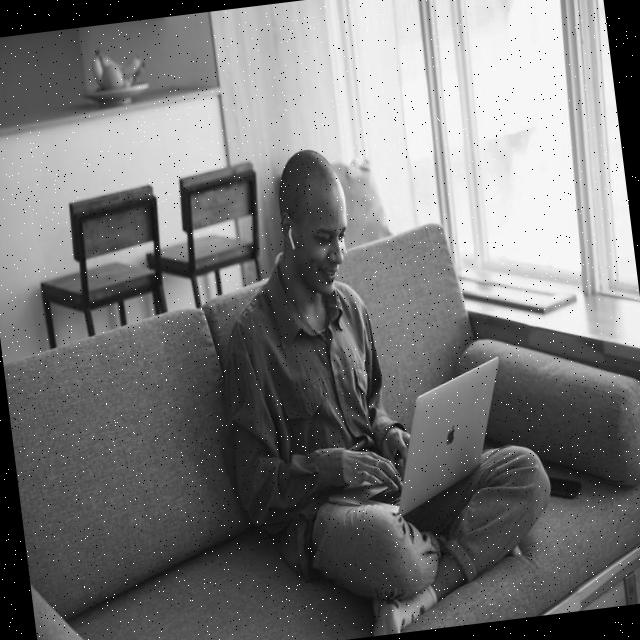Happiness: (284, 176, 356, 300)
